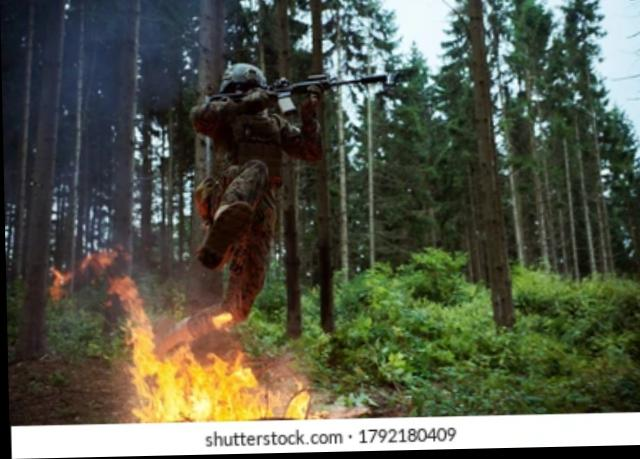other: (192, 68, 281, 329)
